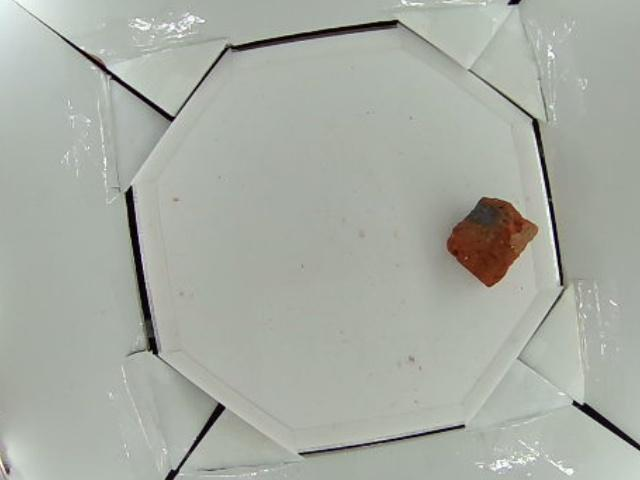Brisk: (449, 197, 540, 286)
